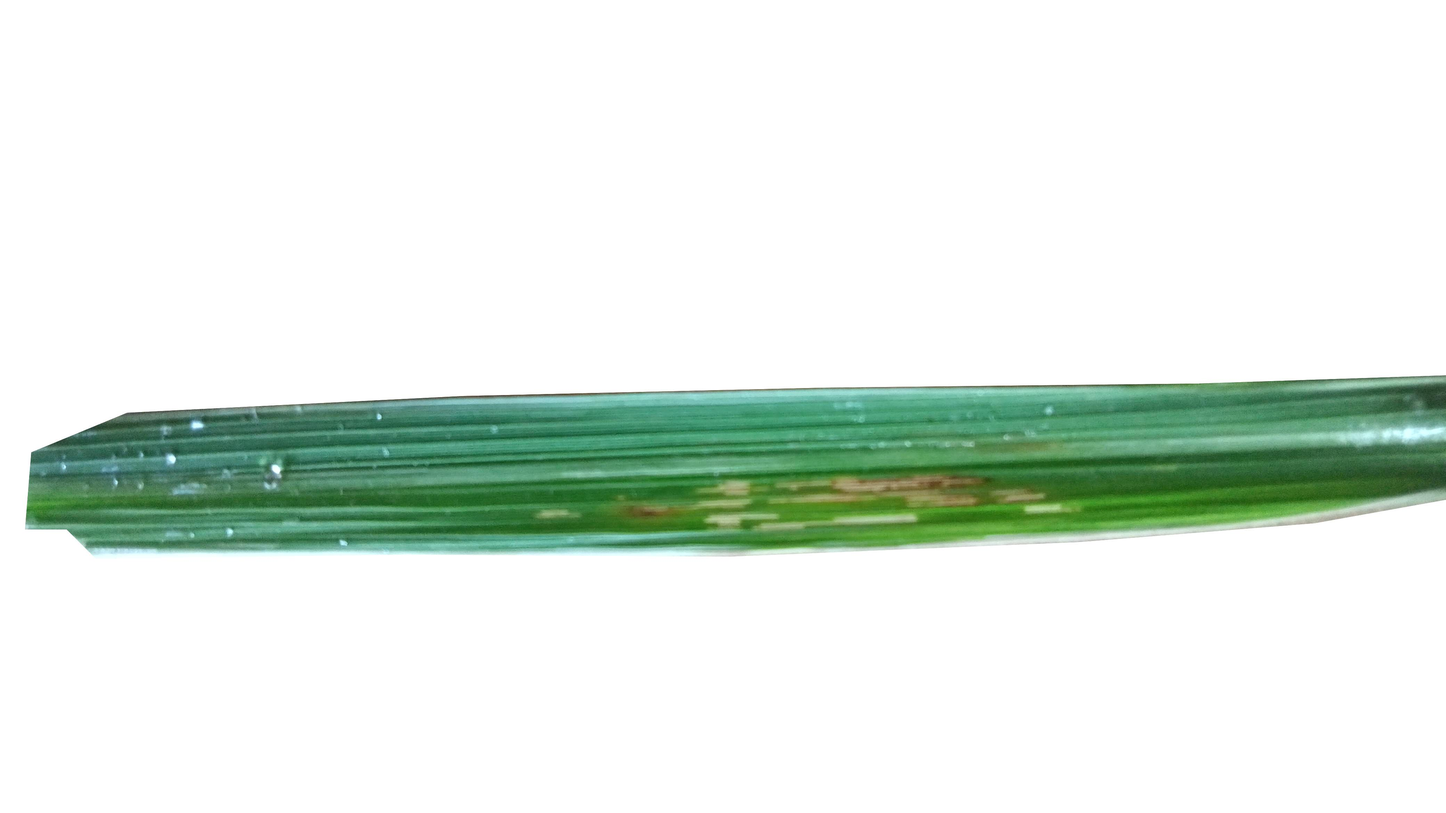Blight: (608, 466, 1058, 525)
